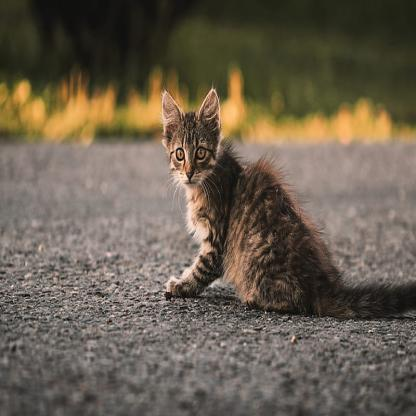cat: (150, 86, 416, 319)
